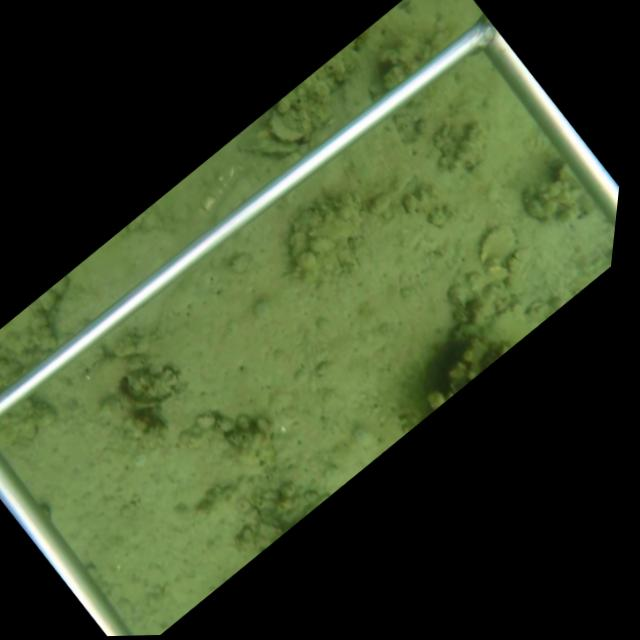Oyster-Indeterminate: (238, 121, 300, 157), (481, 223, 522, 266), (264, 109, 310, 144)
